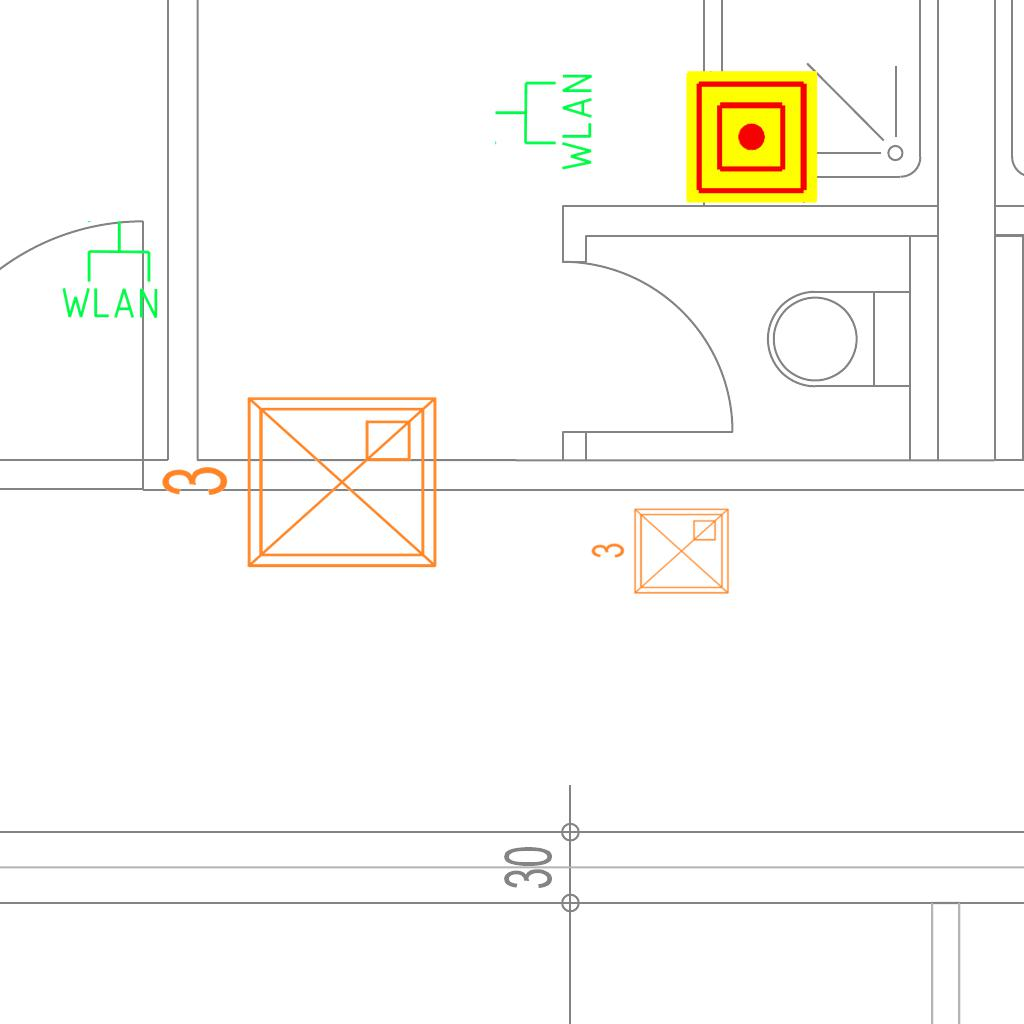Einbaudownlights_LED_Konferenzraeume: (151, 382, 451, 590), (586, 501, 736, 605)
NAM-Nichtautomatischer_Melder: (686, 71, 818, 203)
WLAN: (57, 218, 162, 322), (492, 70, 596, 175)
